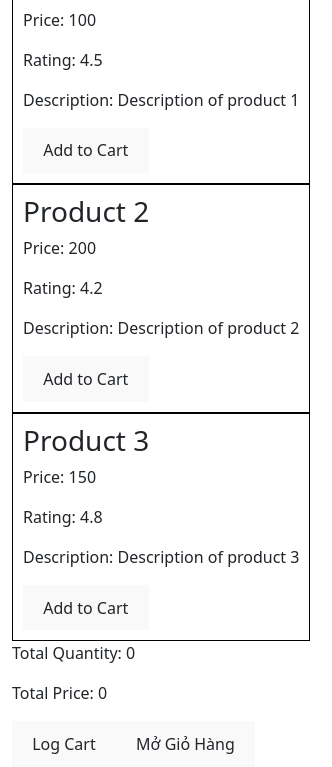
Scenario: ProductListComp Component › toggles cart modal when button is clicked
(page scrolled)
Click the button "Mở Giỏ Hàng": (185, 744) [116,721,255,766]
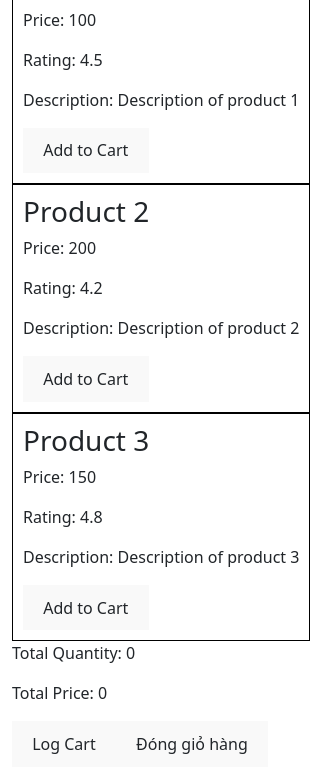
Now the text "Đóng giỏ hàng" is shown, box [136,732,248,756]
Click the button "Đóng giỏ hàng": (192, 744) [116,721,268,766]
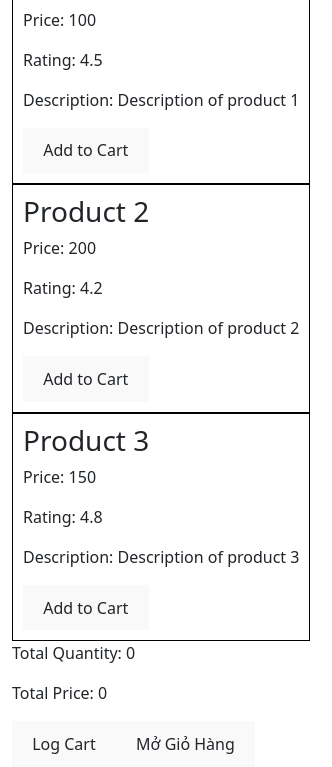
Now the text "Mở Giỏ Hàng" is shown, box [136,732,235,756]
